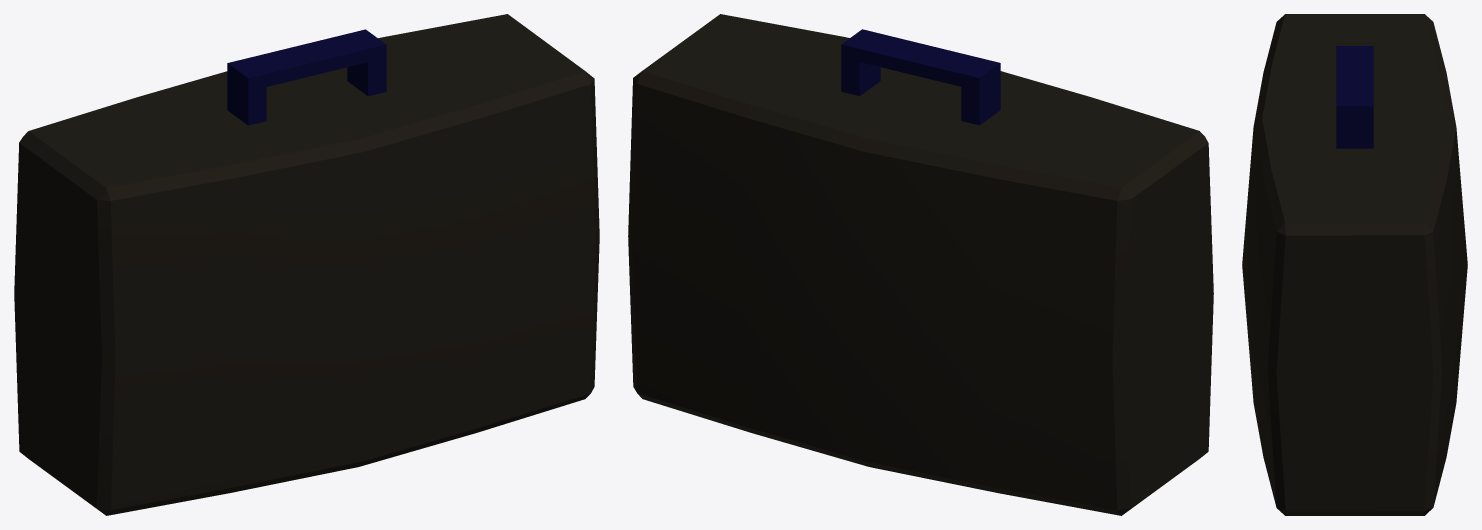
File: Suitcase_01.fbx
3 renders of one model, left to right at view 1: azimuth 30°, elevation 25°; view 2: azimuth 150°, elevation 25°; view 3: azimuth 270°, elevation 25°, orthographic. The views are drawn at different scales.
Visible parts, largest first — view 1: Suitcase_01; view 2: Suitcase_01; view 3: Suitcase_01.
Boxes of the visible parts, x1,y1,x2,y2 form: Suitcase_01: (14, 14, 599, 515); Suitcase_01: (628, 14, 1213, 515); Suitcase_01: (1242, 14, 1467, 515).
Size of the model in its own units: 173 by 124 by 75.87.
